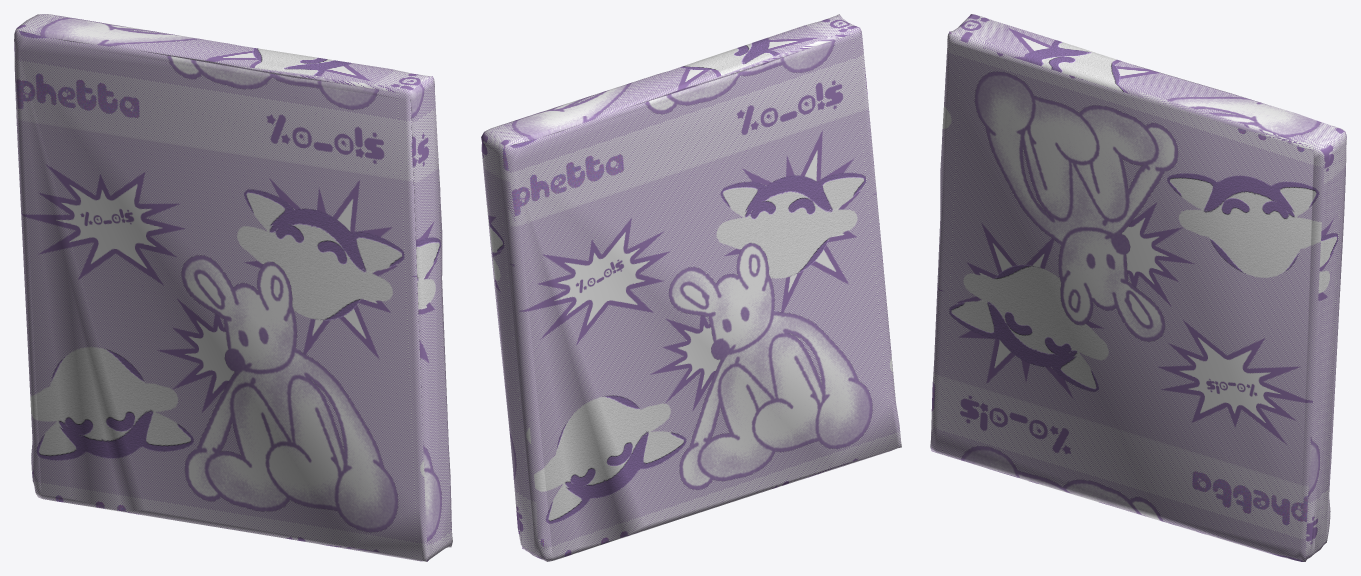
Rendered from noodleshopwithnpc.glb.
The picture shows the model from 3 angles, left to right: view 1: azimuth 90°, elevation 25°; view 2: azimuth 150°, elevation 25°; view 3: azimuth 270°, elevation 25°; orthographic projection. The views are drawn at different scales.
Parts seen in each view (by area): view 1: Retopo_Layer_14.002; view 2: Retopo_Layer_14.002; view 3: Retopo_Layer_14.002.
Boxes of the visible parts, bbox=[...] form: Retopo_Layer_14.002: bbox=[14, 14, 452, 561]; Retopo_Layer_14.002: bbox=[481, 14, 901, 561]; Retopo_Layer_14.002: bbox=[930, 14, 1346, 561].
Size of what is drawn, in the model's own units: 0.4333 by 0.767 by 0.6265.
Materials: 1 (1 with a texture image).
